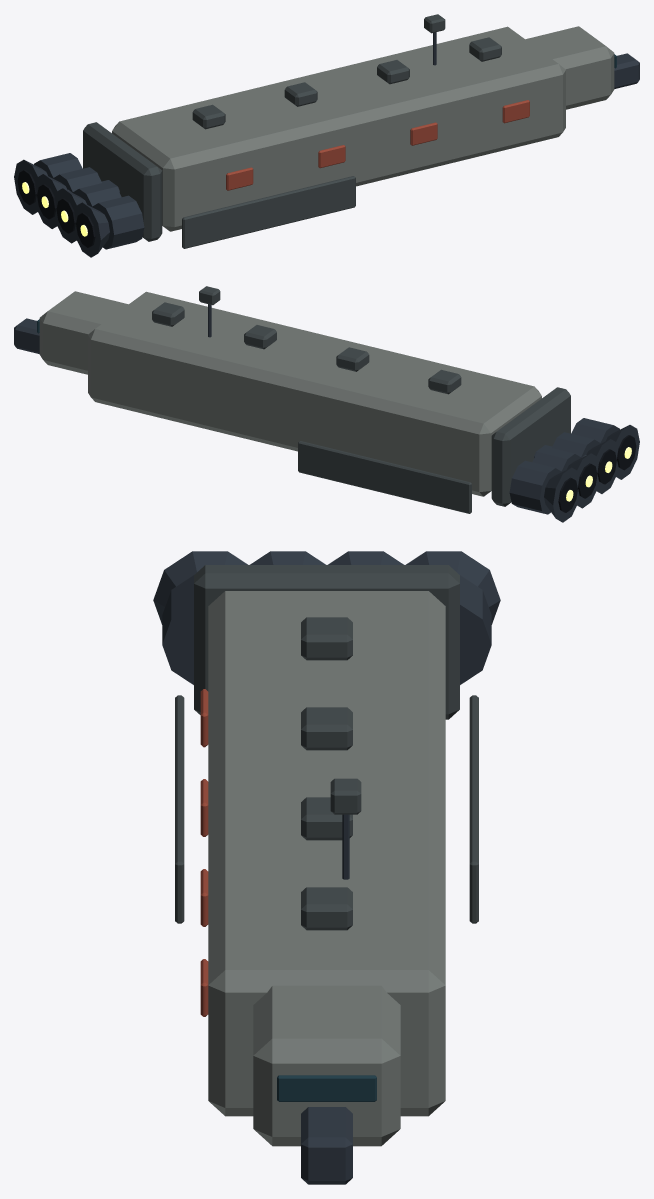
File: final-authority.glb
The picture shows the model from 3 angles, top to bottom: view 1: azimuth 30°, elevation 25°; view 2: azimuth 150°, elevation 25°; view 3: azimuth 270°, elevation 25°; orthographic projection. The views are drawn at different scales.
Parts seen in each view (by area): view 1: armored mission hull, shuttered radiator, reactor shield, forward command, engine jacket, engine bell, structural spine, engine jacket.003, engine jacket.001, engine jacket.002, engine bell.003, dorsal mount.001 (+13 smaller); view 2: armored mission hull, shuttered radiator.001, reactor shield, forward command, engine jacket.003, engine bell.003, structural spine, engine jacket, engine jacket.002, engine jacket.001, engine bell, engine bell.002 (+9 smaller); view 3: armored mission hull, forward command, reactor shield, structural spine, engine jacket, engine jacket.003, bridge glazing, shuttered radiator, shuttered radiator.001, dorsal mount.003, dorsal mount, dorsal mount.001 (+4 smaller).
Part boxes in pixels (left/top/right/bottom): armored mission hull: left=112, top=26, right=565, bottom=231; shuttered radiator: left=182, top=176, right=355, bottom=248; reactor shield: left=83, top=122, right=162, bottom=241; forward command: left=525, top=26, right=614, bottom=109; engine jacket: left=92, top=195, right=144, bottom=249; engine bell: left=74, top=202, right=109, bottom=257; structural spine: left=67, top=53, right=639, bottom=192; engine jacket.003: left=34, top=153, right=82, bottom=178; engine jacket.001: left=73, top=181, right=121, bottom=206; engine jacket.002: left=53, top=167, right=101, bottom=192; engine bell.003: left=14, top=159, right=47, bottom=214; dorsal mount.001: left=284, top=82, right=317, bottom=106; armored mission hull: left=88, top=291, right=541, bottom=496; shuttered radiator.001: left=298, top=441, right=471, bottom=513; reactor shield: left=491, top=387, right=570, bottom=506; forward command: left=39, top=291, right=128, bottom=374; engine jacket.003: left=509, top=460, right=561, bottom=514; engine bell.003: left=544, top=467, right=579, bottom=522; structural spine: left=14, top=318, right=586, bottom=457; engine jacket: left=571, top=418, right=619, bottom=443; engine jacket.002: left=532, top=446, right=580, bottom=471; engine jacket.001: left=552, top=432, right=600, bottom=457; engine bell: left=606, top=425, right=639, bottom=479; engine bell.002: left=566, top=453, right=599, bottom=508; armored mission hull: left=208, top=591, right=445, bottom=1116; forward command: left=253, top=985, right=400, bottom=1146; reactor shield: left=194, top=565, right=459, bottom=719; structural spine: left=301, top=1107, right=352, bottom=1184; engine jacket: left=162, top=575, right=193, bottom=684; engine jacket.003: left=460, top=575, right=491, bottom=684; bridge glazing: left=277, top=1075, right=376, bottom=1101; shuttered radiator: left=175, top=695, right=184, bottom=923; shuttered radiator.001: left=469, top=695, right=478, bottom=923; dorsal mount.003: left=301, top=887, right=352, bottom=930; dorsal mount: left=301, top=617, right=352, bottom=660; dorsal mount.001: left=301, top=707, right=352, bottom=750.
Bounding box in the file's own units: 14.12 × 3 × 3.66.
